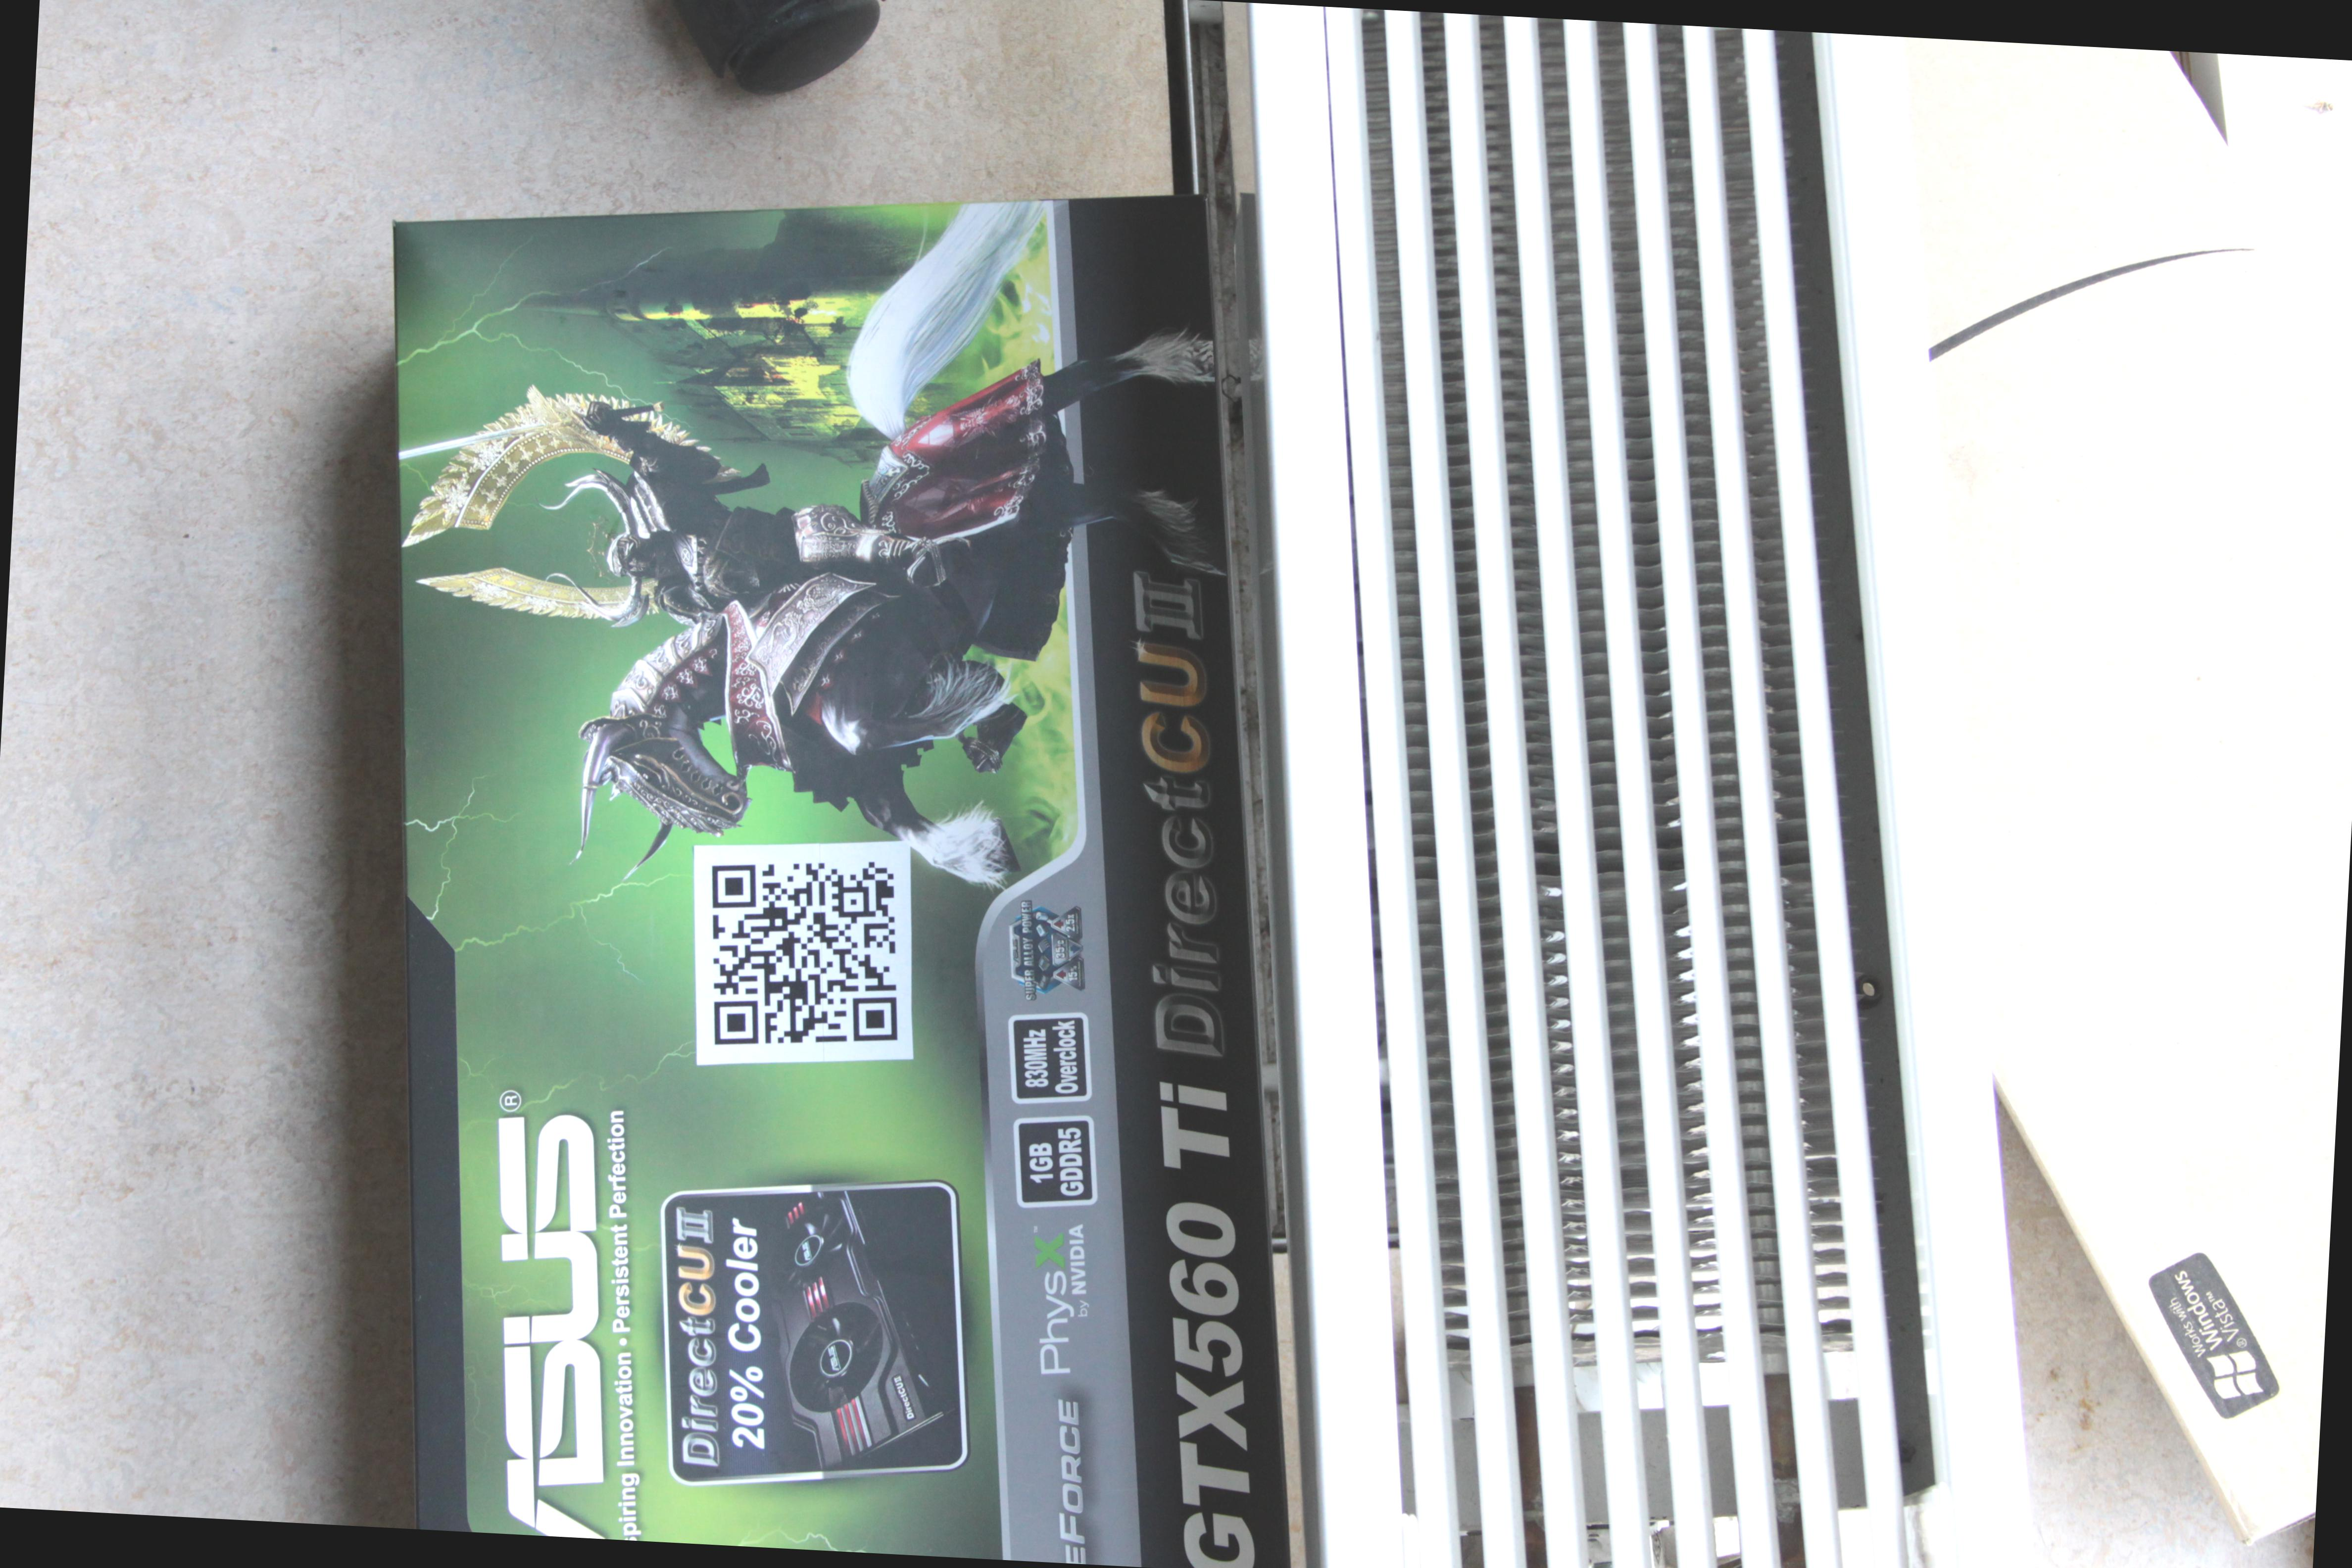QR: (681, 847, 910, 1066)
